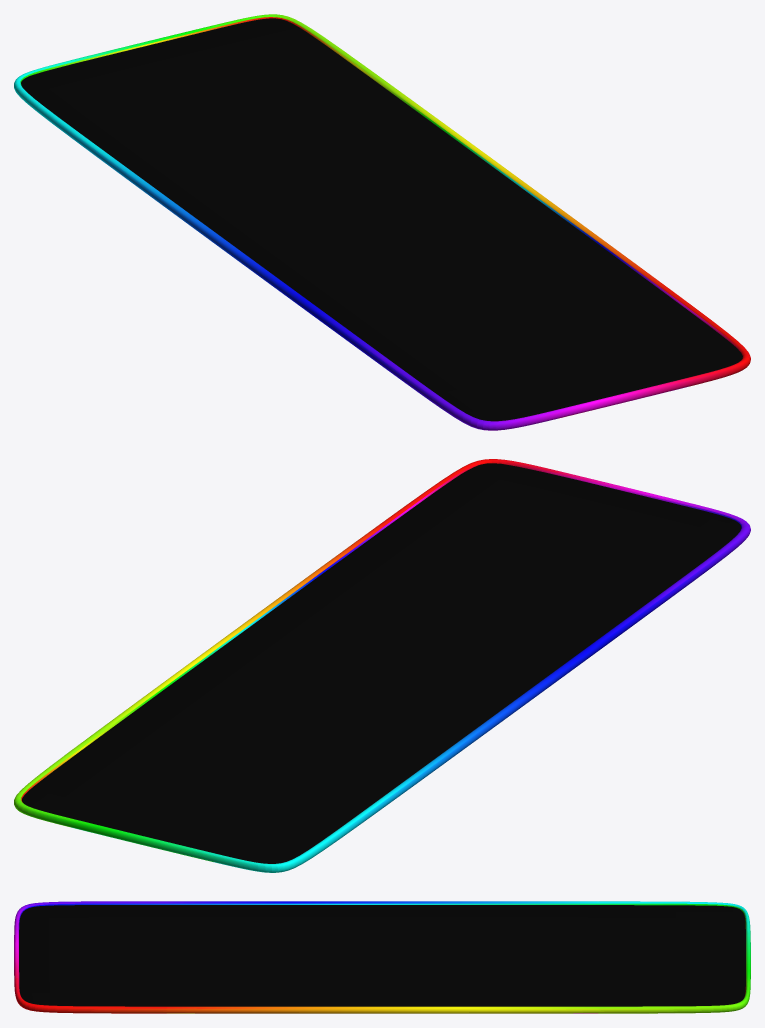
File: big mousepad - 12.5Dx36W.glb
3 renders of one model, top to bottom at view 1: azimuth 30°, elevation 25°; view 2: azimuth 150°, elevation 25°; view 3: azimuth 270°, elevation 25°, orthographic. The views are drawn at different scales.
Parts seen in each view (by area): view 1: Cube; view 2: Cube; view 3: Cube.
Part boxes in pixels (x1=…): Cube: x1=14, y1=14, x2=750, y2=430; Cube: x1=14, y1=459, x2=750, y2=872; Cube: x1=14, y1=901, x2=750, y2=1013.
Size of the model in its own units: 12.51 by 0.3456 by 35.96.
Materials: 2 (1 with a texture image).
